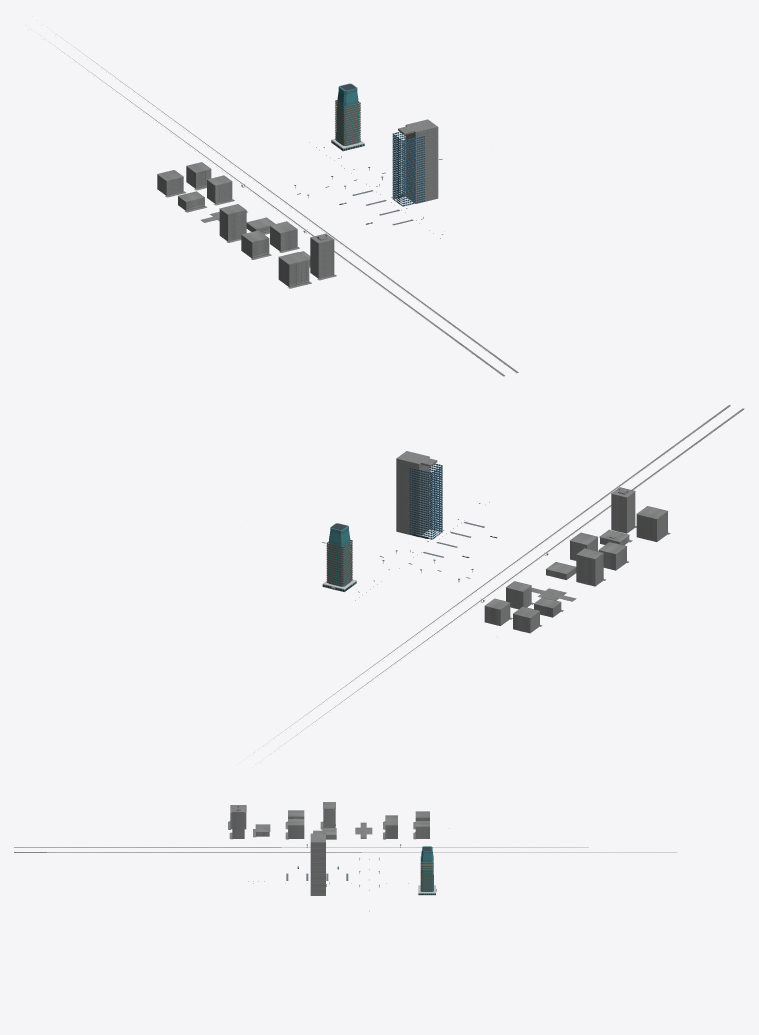
File: cell_2_-3_lod1.gltf
The picture shows the model from 3 angles, top to bottom: view 1: azimuth 30°, elevation 25°; view 2: azimuth 150°, elevation 25°; view 3: azimuth 270°, elevation 25°; orthographic projection. The views are drawn at different scales.
Parts seen in each view (by area): view 1: MASS_EKO_016, EKO_BATCH_EKO_|_deep_Atlantic_blue_glass, EKO_ENTRY_DOOR_EKO_RESIDENCE_COURT_02, EKO_BATCH_EKO_|_smoked_bronze_glass, EKO_RETAIL_PODIUM_EKO_RESIDENCE_COURT_02; view 2: MASS_EKO_016, EKO_BATCH_EKO_|_deep_Atlantic_blue_glass, EKO_ENTRY_DOOR_EKO_RESIDENCE_COURT_02, EKO_BATCH_EKO_|_smoked_bronze_glass, EKO_RETAIL_PODIUM_EKO_RESIDENCE_COURT_02; view 3: MASS_EKO_016, EKO_ENTRY_DOOR_EKO_RESIDENCE_COURT_02, EKO_BATCH_EKO_|_smoked_bronze_glass.
Part boxes in pixels (left/top/right/bottom): MASS_EKO_016: left=44, top=37, right=518, bottom=376; EKO_BATCH_EKO_|_deep_Atlantic_blue_glass: left=392, top=132, right=424, bottom=206; EKO_ENTRY_DOOR_EKO_RESIDENCE_COURT_02: left=336, top=83, right=359, bottom=145; EKO_BATCH_EKO_|_smoked_bronze_glass: left=335, top=100, right=360, bottom=145; EKO_RETAIL_PODIUM_EKO_RESIDENCE_COURT_02: left=331, top=100, right=424, bottom=204; MASS_EKO_016: left=254, top=405, right=744, bottom=752; EKO_BATCH_EKO_|_deep_Atlantic_blue_glass: left=409, top=463, right=442, bottom=539; EKO_ENTRY_DOOR_EKO_RESIDENCE_COURT_02: left=328, top=523, right=351, bottom=589; EKO_BATCH_EKO_|_smoked_bronze_glass: left=326, top=540, right=352, bottom=586; EKO_RETAIL_PODIUM_EKO_RESIDENCE_COURT_02: left=322, top=463, right=442, bottom=591; MASS_EKO_016: left=14, top=802, right=676, bottom=895; EKO_ENTRY_DOOR_EKO_RESIDENCE_COURT_02: left=420, top=846, right=433, bottom=891; EKO_BATCH_EKO_|_smoked_bronze_glass: left=420, top=857, right=433, bottom=891.
Size of the model in its own units: 1062 by 133 by 1645.
Materials: 15 (2 with a texture image).
